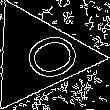O_SW: (1, 25, 76, 87)
